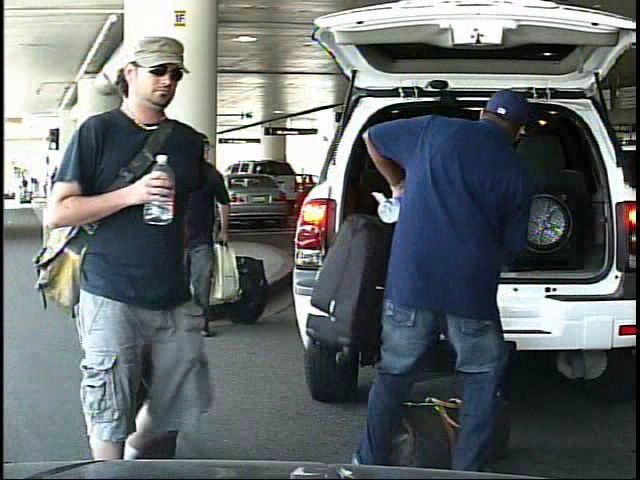person: (339, 80, 546, 471), (34, 43, 205, 468), (141, 122, 253, 340), (13, 172, 24, 203)
